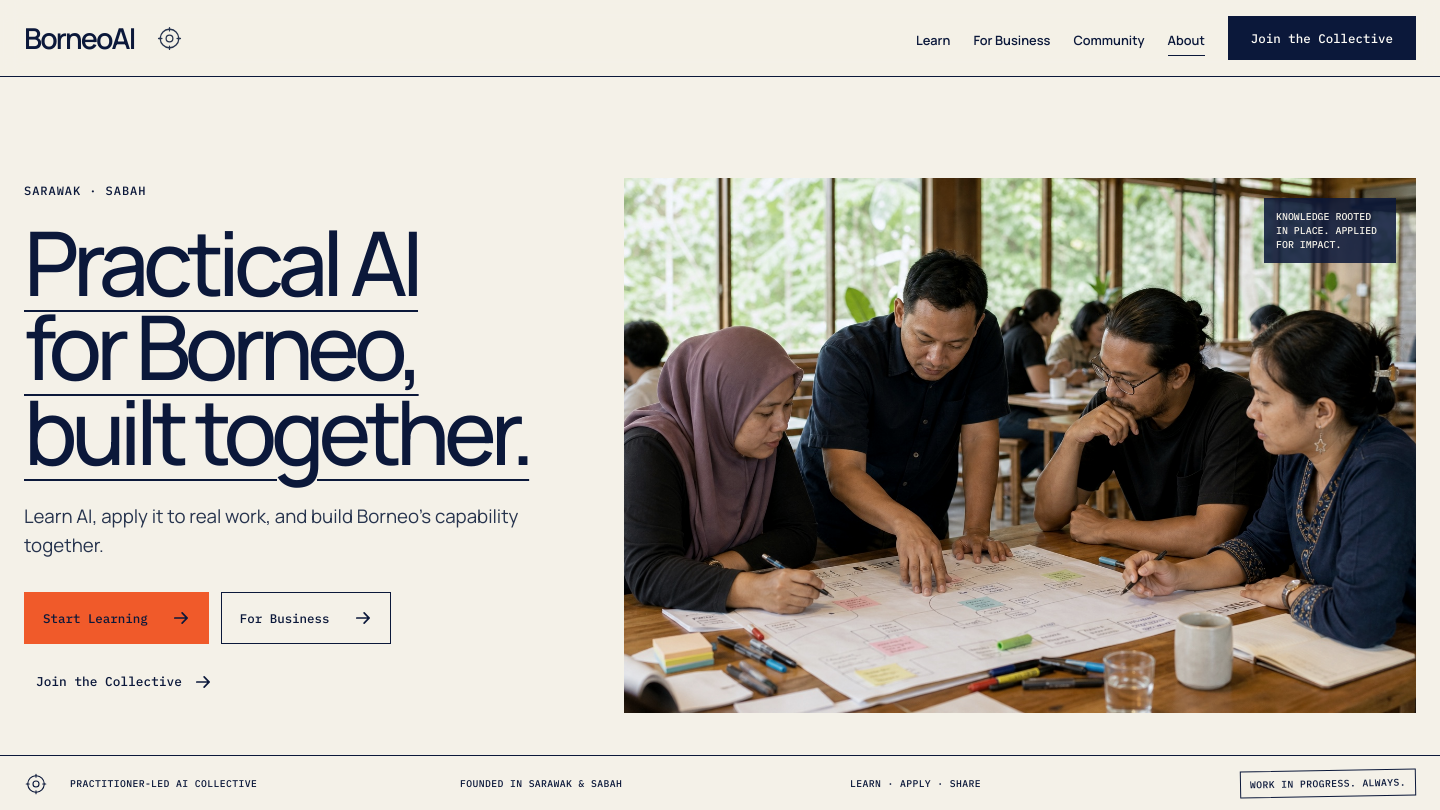
Test: contextual interest dialog › requires identity, an interest and the contact acknowledgement
The image size is (1440, 810).
Click the button "Join the Collective" next to "About": (1322, 38) 1228,16 -> 1416,60
(page scrolled)
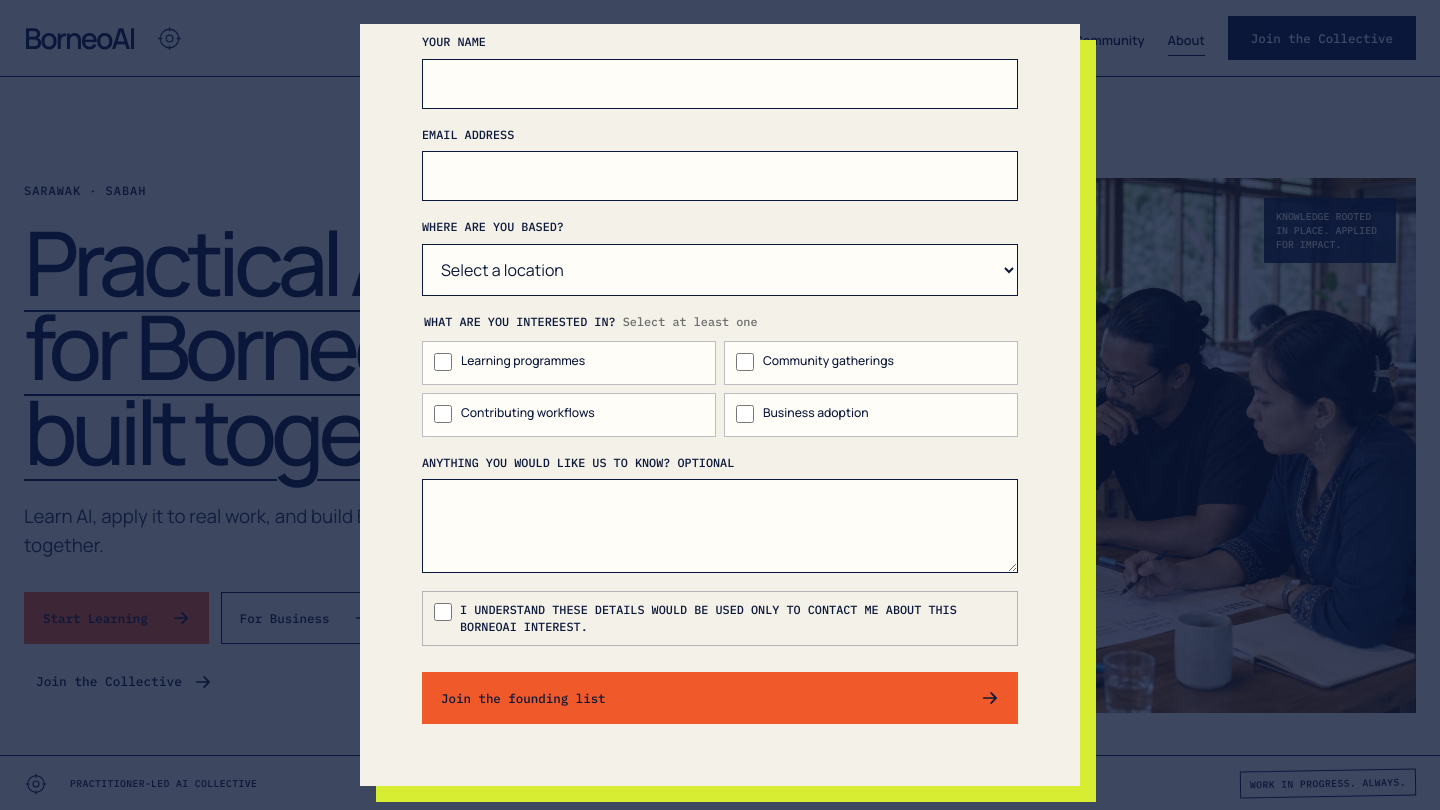
Click the button "Join the founding list": (523, 698) 422,672 -> 1018,724
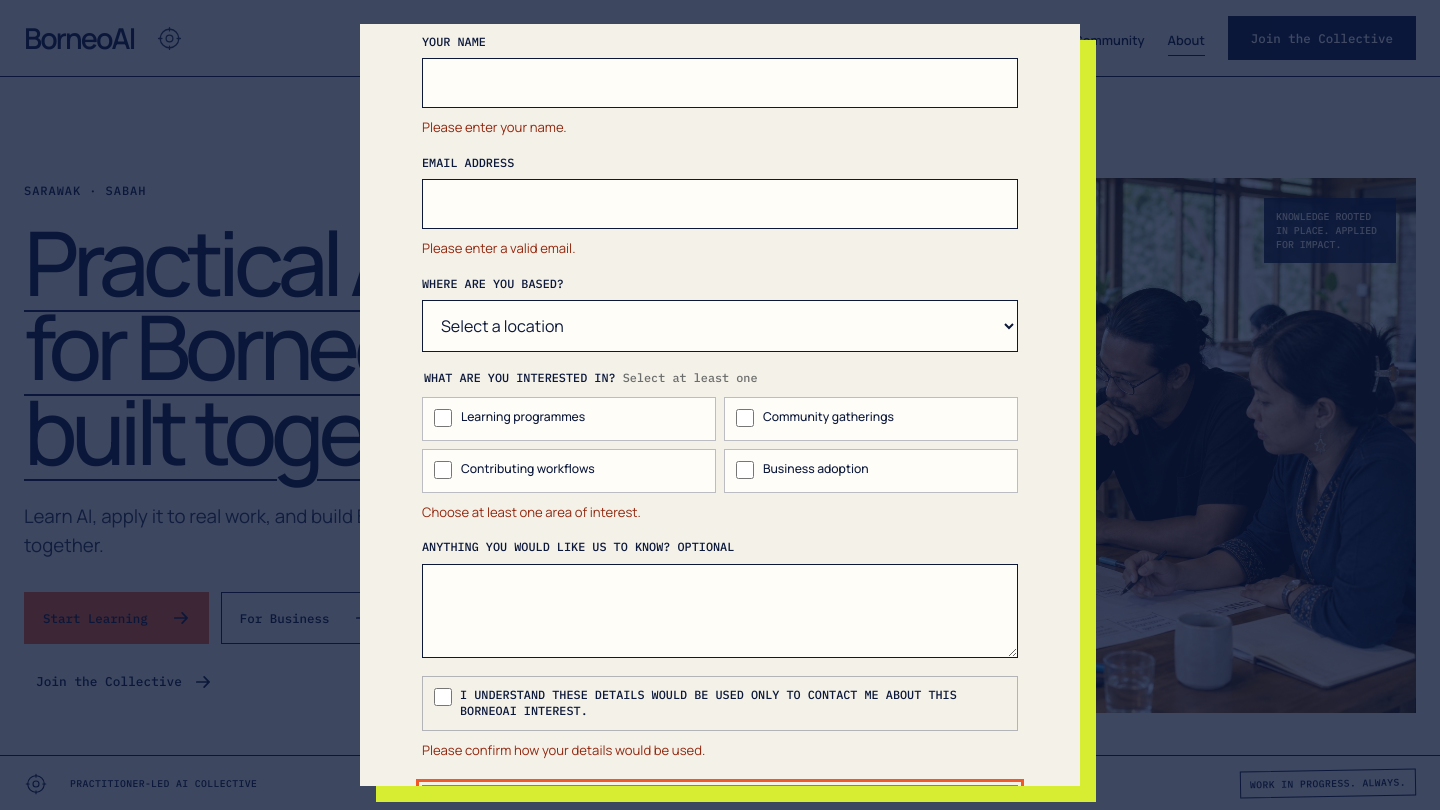
Expected: the text "Please enter your name." is shown, 422,118 -> 567,136
Expected: the text "Choose at least one area of interest." is shown, 422,503 -> 641,521
